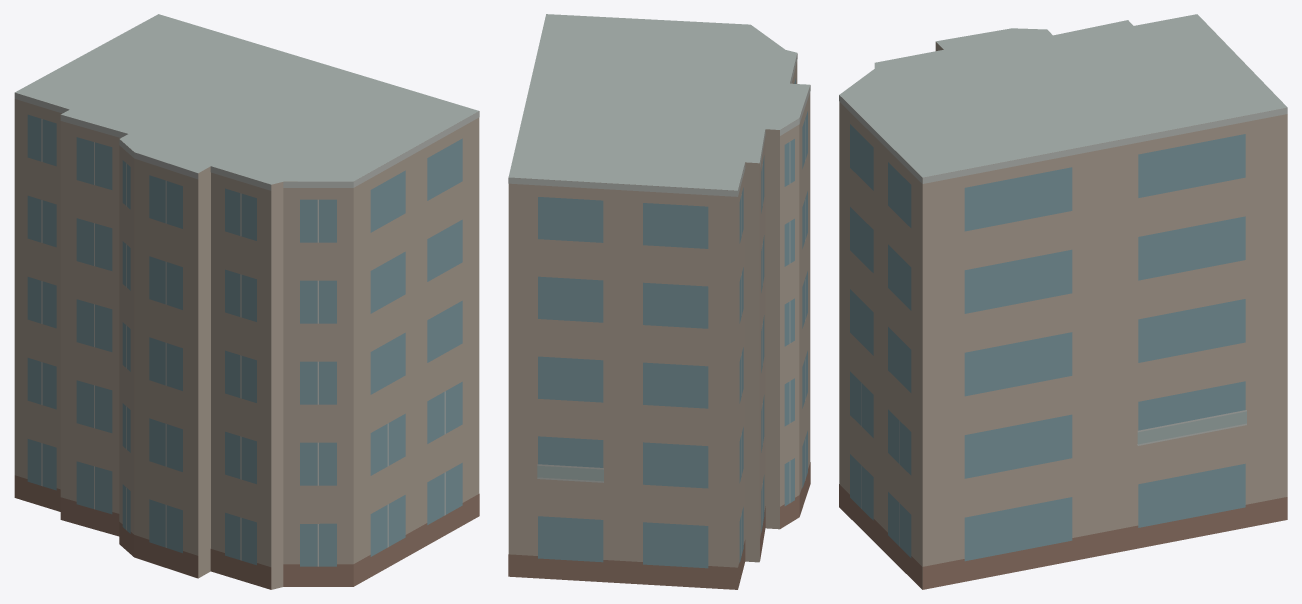
The model's file is survey-upis-32576829.glb.
The picture shows the model from 3 angles, left to right: view 1: azimuth 30°, elevation 25°; view 2: azimuth 150°, elevation 25°; view 3: azimuth 270°, elevation 25°; orthographic projection. The views are drawn at different scales.
Visible parts, largest first — view 1: survey-upis-32576829.tmp; view 2: survey-upis-32576829.tmp; view 3: survey-upis-32576829.tmp.
Part boxes in pixels (<box>): survey-upis-32576829.tmp: <box>14,14,479,589</box>; survey-upis-32576829.tmp: <box>508,14,810,589</box>; survey-upis-32576829.tmp: <box>839,14,1287,589</box>.
Bounding box in the file's own units: 13.38 × 15.7 × 15.49.
